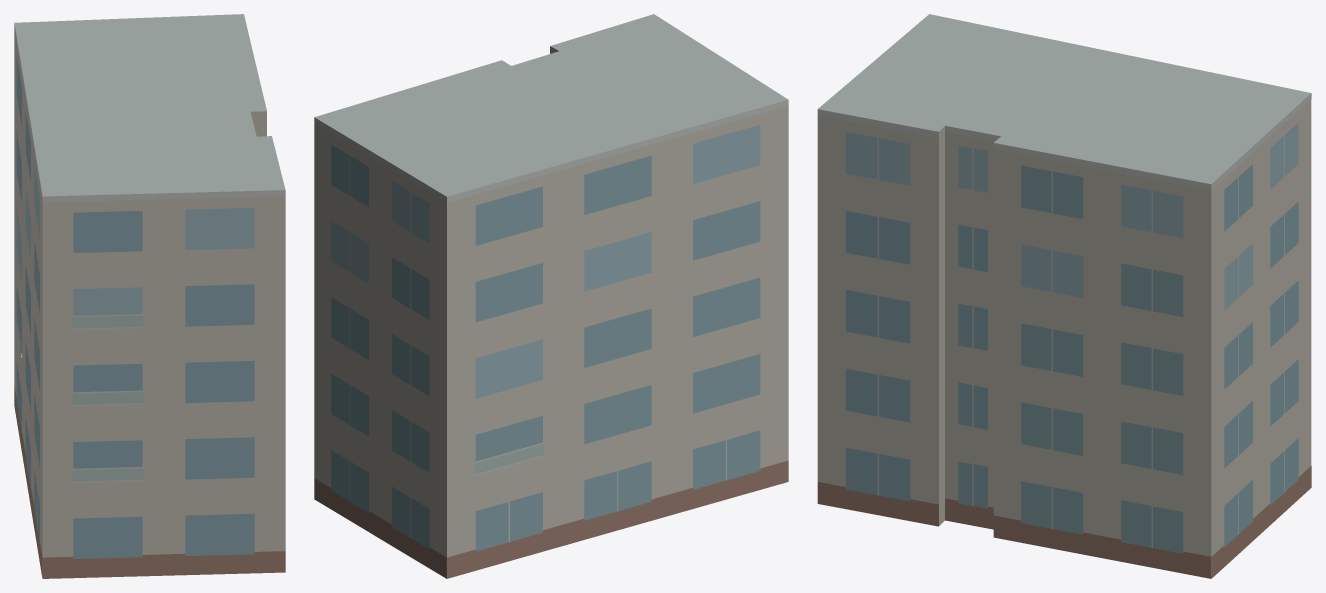
File: survey-upis-32531004.glb
3 renders of one model, left to right at view 1: azimuth 30°, elevation 25°; view 2: azimuth 150°, elevation 25°; view 3: azimuth 270°, elevation 25°, orthographic. The views are drawn at different scales.
Visible parts, largest first — view 1: survey-upis-32531004.tmp; view 2: survey-upis-32531004.tmp; view 3: survey-upis-32531004.tmp.
Part boxes in pixels (x1,y1,x2,y2): survey-upis-32531004.tmp: (14,14,285,578); survey-upis-32531004.tmp: (314,14,788,578); survey-upis-32531004.tmp: (817,14,1311,578).
Bounding box in the file's own units: 14.35 × 15.5 × 17.59.
